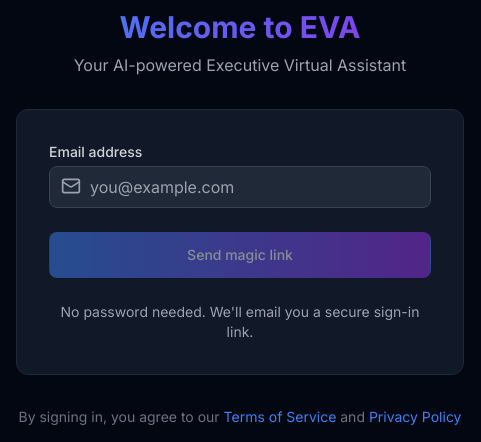
Test case: LoginPage › enables submit button when email is entered
The width and height of the screenshot is (481, 442).
Type "test@example.com" into the field labelled "Email address" at (240, 187), box x1=49 y1=166 x2=431 y2=208
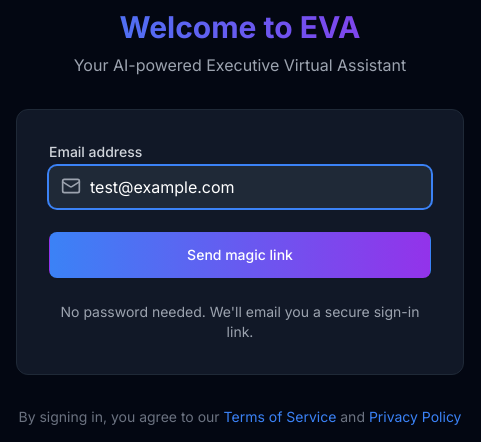
Expected: the button "Send magic link" is enabled, x1=49 y1=232 x2=431 y2=278
